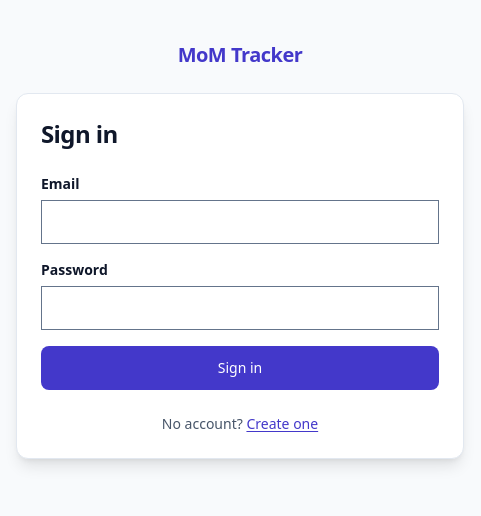
Login page › shows a generic error on 401
Type "olivia@example.com" into the field labelled "Email" at (240, 222), box [41, 200, 439, 244]
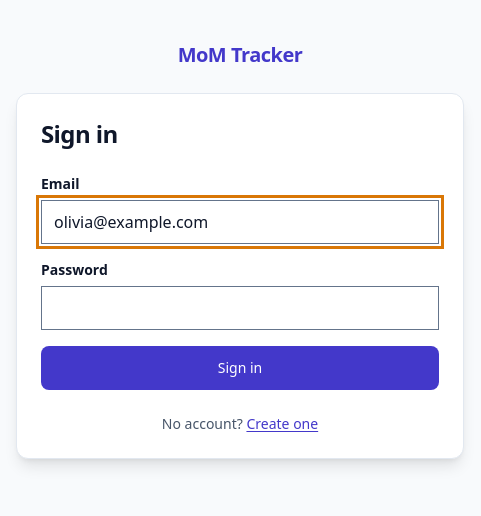
Type "wrong-password" into the password field labelled "Password" at (240, 308), box [41, 286, 439, 330]
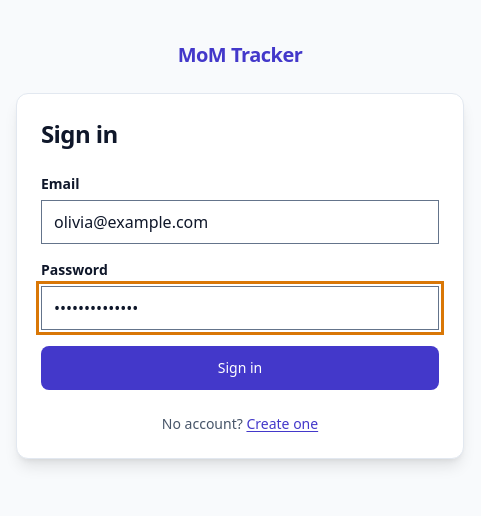
Click the button "Sign in" at (240, 368), box [41, 346, 439, 390]
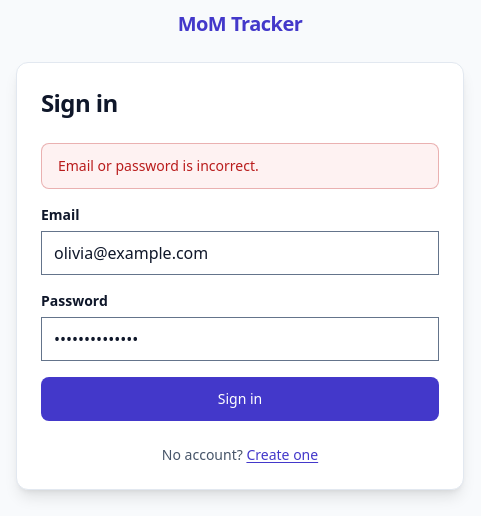
Now the text "Email or password is incorrect." is shown, box [41, 143, 439, 189]
